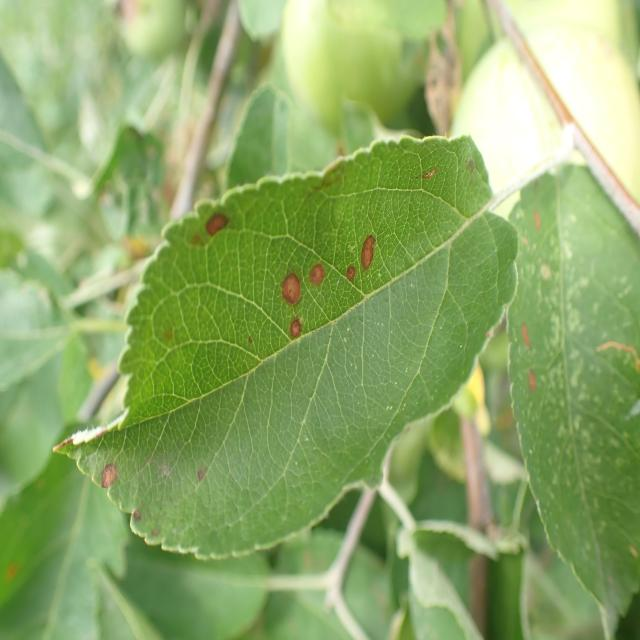Black Rot: (90, 432, 124, 498), (202, 194, 231, 270), (270, 256, 300, 311), (359, 234, 387, 286), (302, 263, 335, 301), (280, 307, 319, 338), (342, 250, 368, 295)
